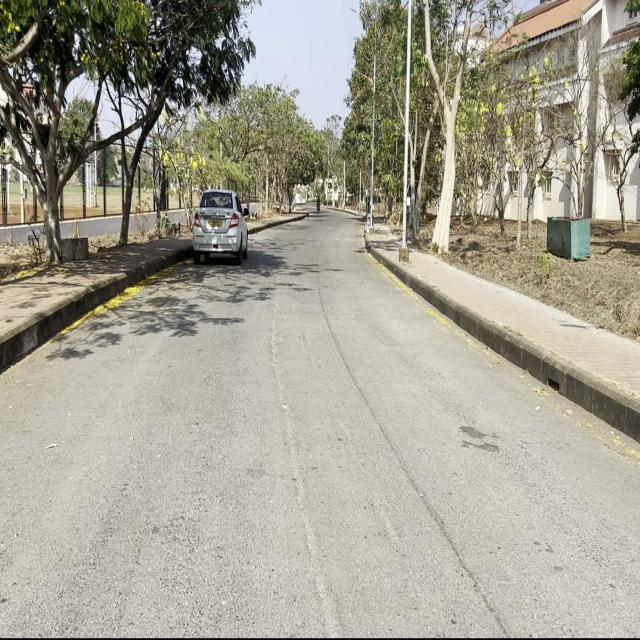Object: (193, 179, 250, 275)
Road: (6, 209, 637, 635)
